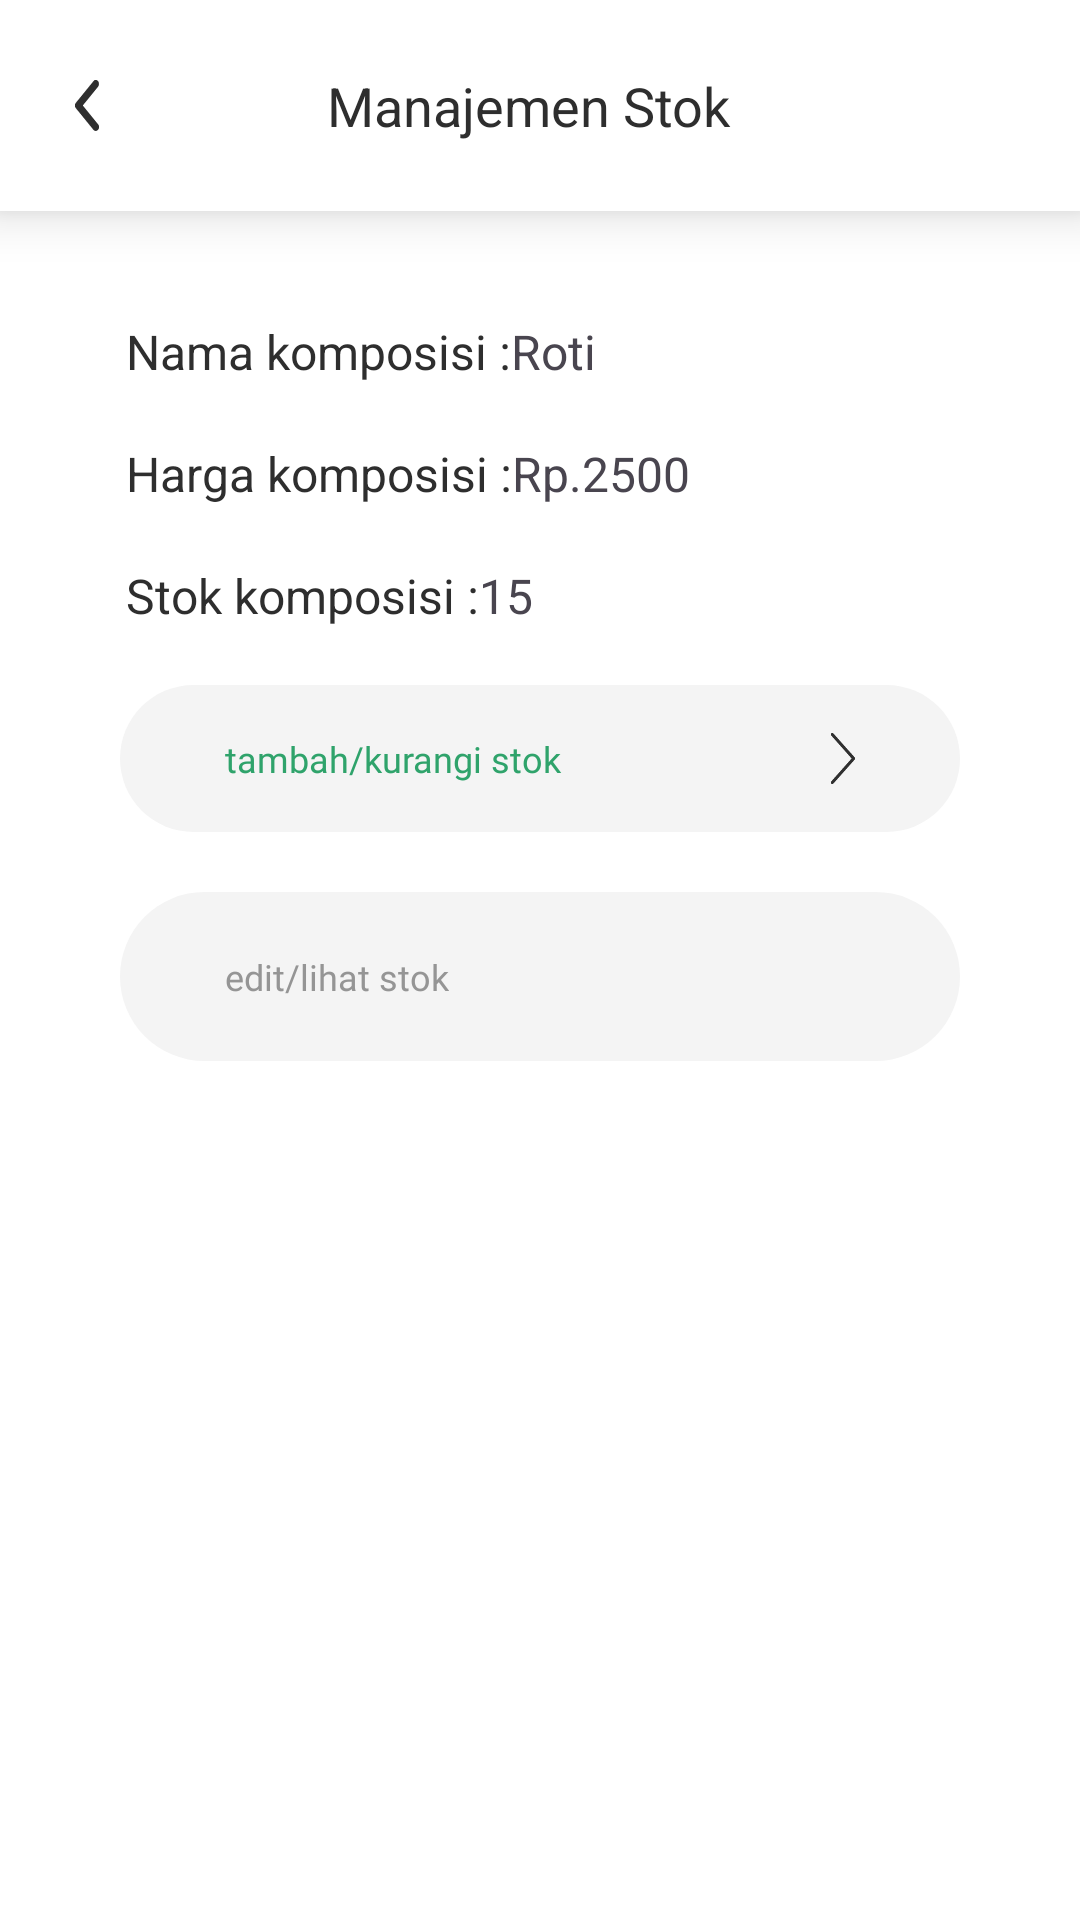

Screen size 1080*1920. Icon name, then its center in pixels as point (x, y):
back: point (87, 105)
next: point (843, 758)
